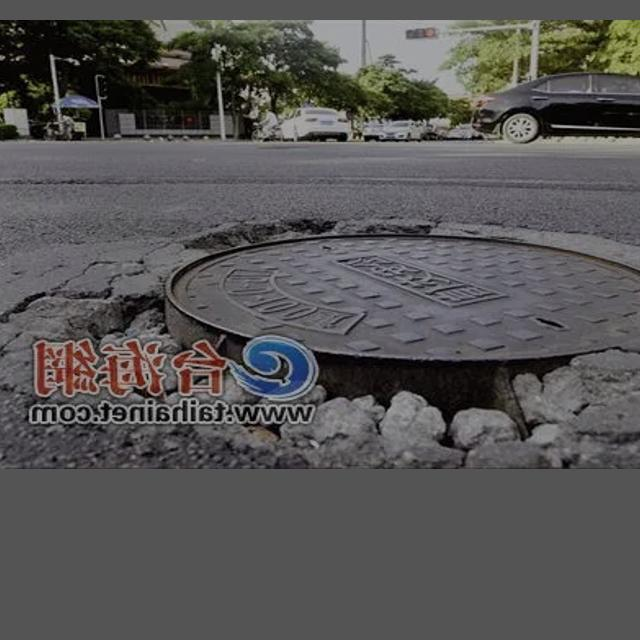circle: (0, 216, 640, 443)
